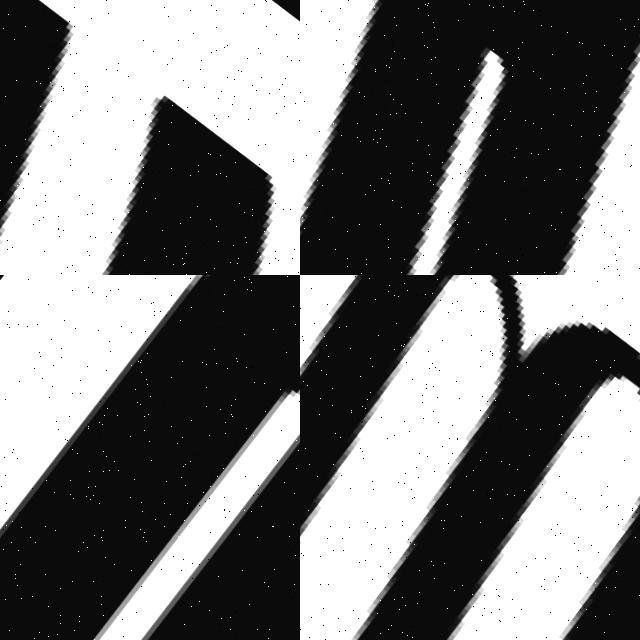H: (300, 0, 640, 275)
M: (300, 275, 640, 640)
N: (0, 275, 300, 640)
U: (0, 0, 300, 275)
